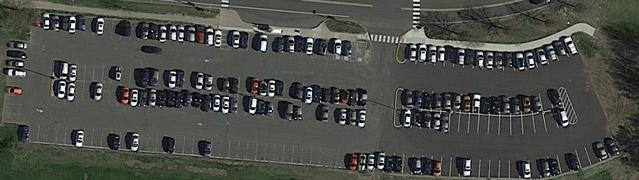parkingspot: (18, 122, 621, 180), (55, 78, 367, 128), (56, 60, 368, 108), (30, 12, 223, 51), (406, 35, 580, 73), (401, 106, 572, 138), (228, 30, 368, 64), (402, 88, 565, 117), (1, 39, 30, 124)
